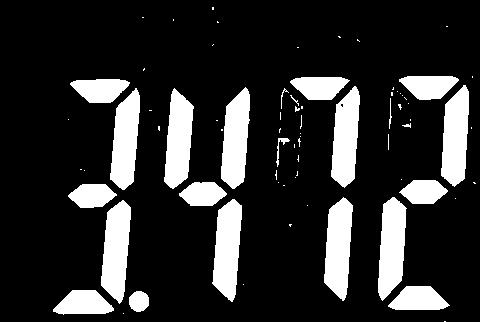2: (376, 73, 472, 313)
3: (55, 75, 142, 318)
4: (161, 84, 253, 314)
7: (284, 73, 363, 306)
dot: (129, 285, 150, 316)
